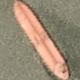ship: (0, 0, 34, 40)
